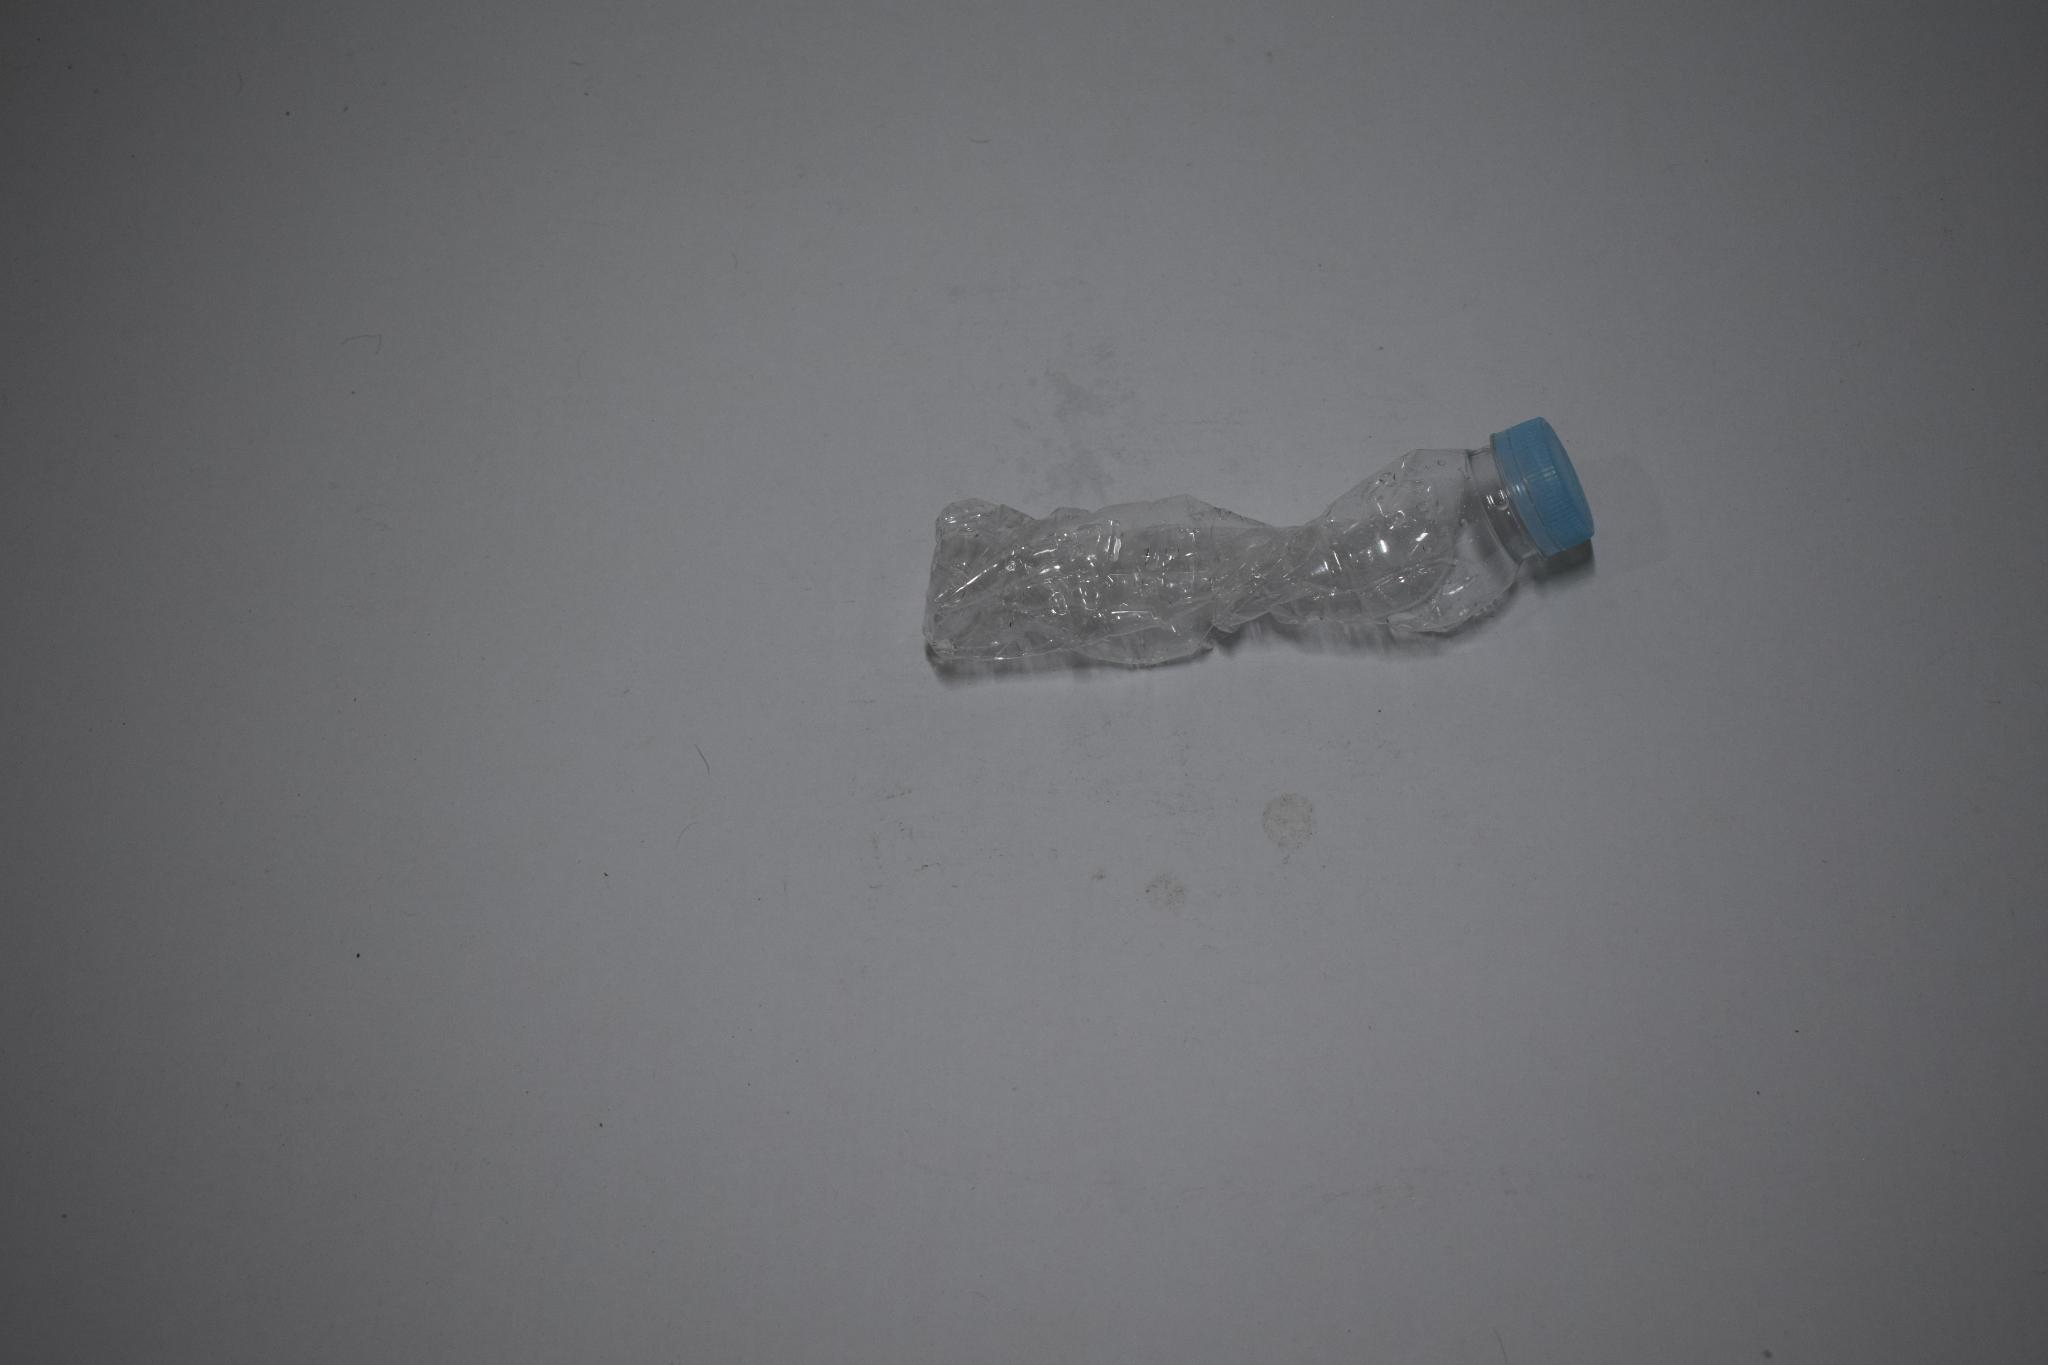bottle: (908, 411, 1590, 686)
